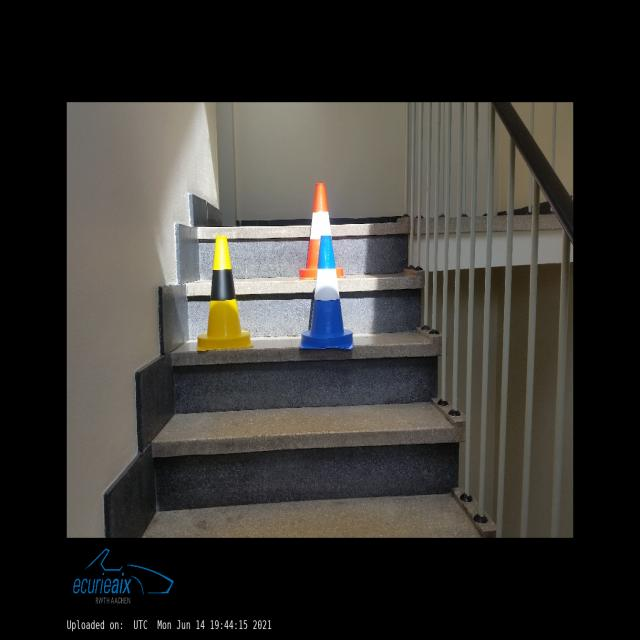blue_cone: (300, 236, 354, 349)
orange_cone: (298, 183, 346, 278)
yellow_cone: (196, 236, 254, 351)
